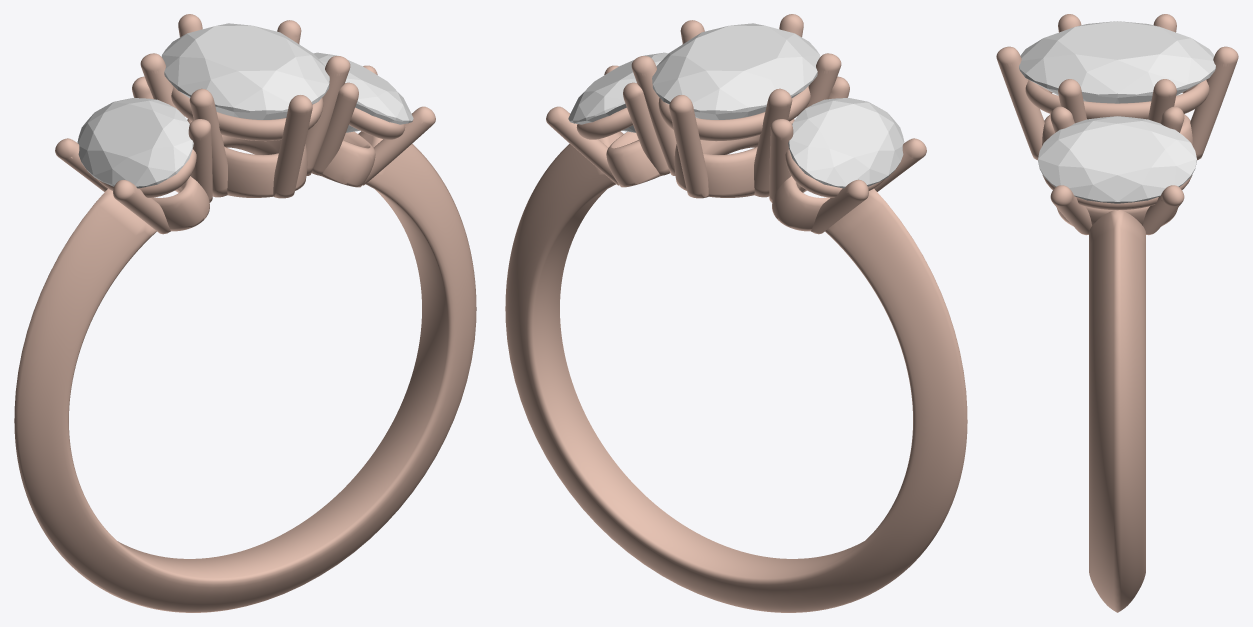
Rendered from diamond-oval-rosegold-6prong-knifeedge-3stone.glb.
3 renders of one model, left to right at view 1: azimuth 30°, elevation 25°; view 2: azimuth 150°, elevation 25°; view 3: azimuth 270°, elevation 25°, orthographic.
Visible parts, largest first — view 1: metal, stone.001, side.002, side.003; view 2: metal, stone.001, side.002, side.003; view 3: metal, stone.001, side.003.
Boxes of the visible parts, x1=… form: metal: x1=14, y1=14, x2=476, y2=612; stone.001: x1=161, y1=23, x2=329, y2=119; side.002: x1=77, y1=97, x2=193, y2=188; side.003: x1=313, y1=52, x2=413, y2=132; metal: x1=505, y1=14, x2=967, y2=612; stone.001: x1=652, y1=23, x2=820, y2=119; side.002: x1=788, y1=97, x2=904, y2=188; side.003: x1=568, y1=52, x2=668, y2=132; metal: x1=996, y1=14, x2=1238, y2=612; stone.001: x1=1019, y1=21, x2=1215, y2=103; side.003: x1=1038, y1=116, x2=1196, y2=203.
Bounding box in the file's own units: 20.1 × 23.2 × 9.29.
